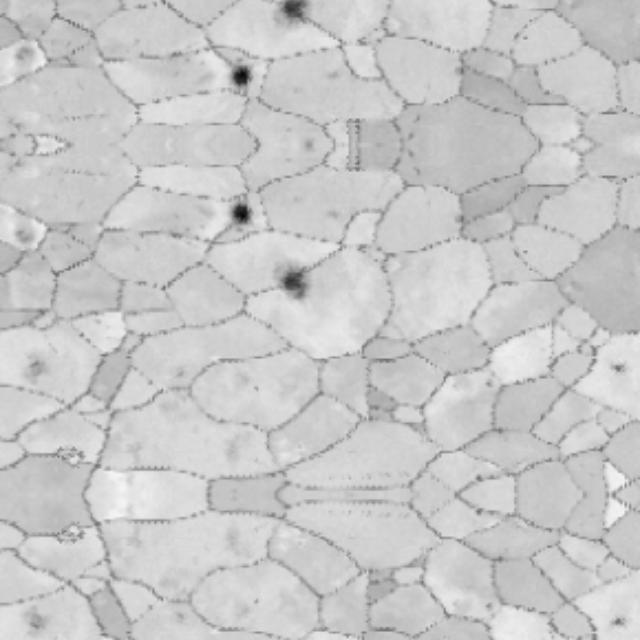good_void: (12, 344, 74, 394), (12, 598, 74, 640), (268, 258, 316, 300), (268, 0, 316, 32), (51, 437, 90, 467), (51, 525, 90, 555), (225, 197, 261, 228), (225, 63, 261, 93), (599, 351, 632, 383), (599, 609, 632, 640), (9, 41, 42, 70), (9, 221, 42, 249), (321, 204, 352, 226), (321, 64, 352, 86), (171, 363, 195, 390), (171, 602, 195, 629), (465, 470, 490, 490), (465, 502, 490, 522), (477, 374, 496, 393), (477, 599, 496, 618), (516, 247, 534, 259), (516, 31, 534, 43)
